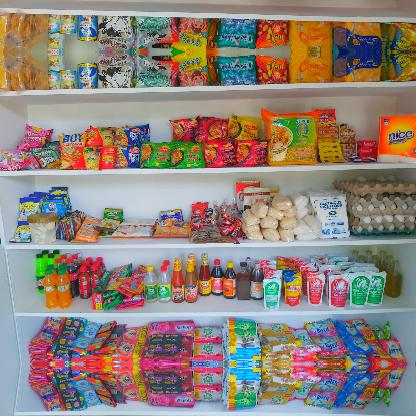Lady-s-Choice: (26, 212, 60, 244)
